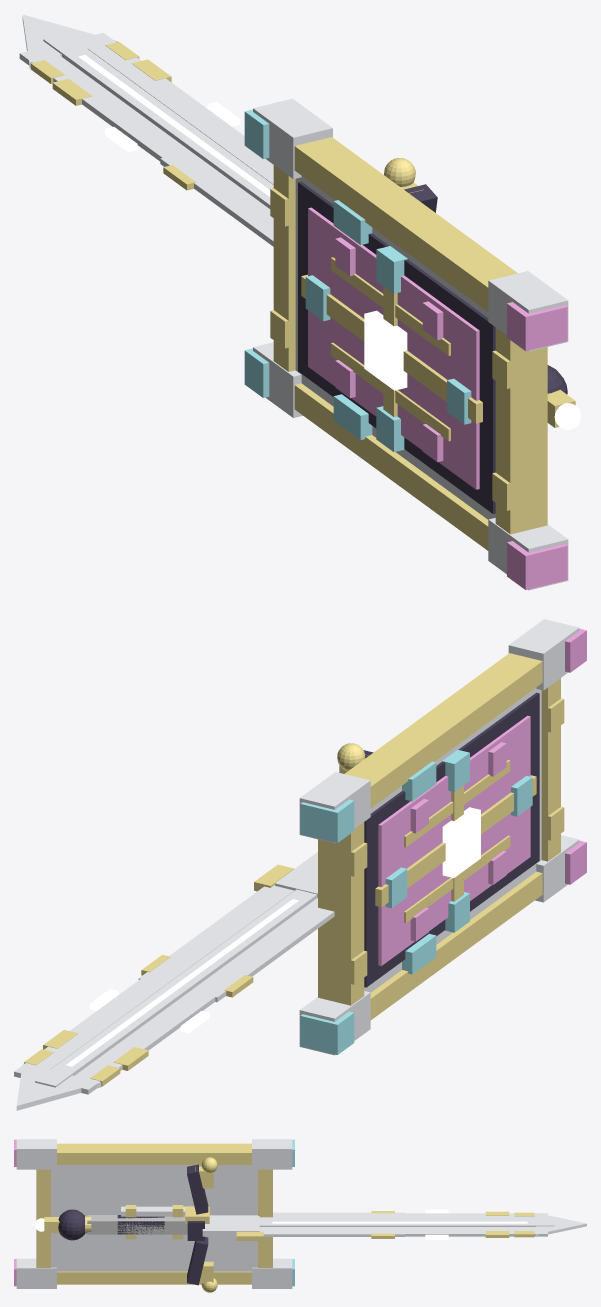
Rendered from art_astral_executioner.fbx.
3 views of the same model, one above another, from view 1: azimuth 30°, elevation 25°; view 2: azimuth 150°, elevation 25°; view 3: azimuth 270°, elevation 25° (orthographic). The views are drawn at different scales.
Visible parts, largest first — view 1: NebulaMirrorFilm, FrameL, ObsidianMirror, FrameBottom, FrameR, BladeFuller, EdgeBack2, EdgeFwd2, FrameTop, EdgeBack1, SpireTL, MirrorBacking (+24 smaller); view 2: NebulaMirrorFilm, FrameL, ObsidianMirror, FrameTop, BladeFuller, FrameR, EdgeBack1, EdgeFwd1, EdgeBack2, EdgeFwd2, FrameBottom, SpireBL (+25 smaller); view 3: MirrorBacking, FrameL, FrameR, BladeFuller, Handle, EdgeFwd1, FrameBottom, SpireBL, SpireTL, FrameTop, EdgeFwd2, Ricasso (+20 smaller).
Boxes of the visible parts, x1=… form: NebulaMirrorFilm: x1=308, y1=207, x2=479, y2=489; FrameL: x1=294, y1=137, x2=517, y2=311; ObsidianMirror: x1=298, y1=181, x2=495, y2=513; FrameBottom: x1=495, y1=327, x2=547, y2=534; FrameR: x1=294, y1=383, x2=488, y2=550; BladeFuller: x1=43, y1=33, x2=273, y2=208; EdgeBack2: x1=19, y1=46, x2=195, y2=161; EdgeFwd2: x1=76, y1=33, x2=244, y2=147; FrameTop: x1=273, y1=165, x2=295, y2=371; EdgeBack1: x1=160, y1=151, x2=273, y2=246; SpireTL: x1=253, y1=98, x2=332, y2=179; MirrorBacking: x1=295, y1=176, x2=495, y2=519; NebulaMirrorFilm: x1=378, y1=715, x2=530, y2=965; FrameL: x1=345, y1=653, x2=542, y2=808; ObsidianMirror: x1=364, y1=692, x2=539, y2=987; FrameTop: x1=318, y1=822, x2=364, y2=1005; BladeFuller: x1=35, y1=889, x2=317, y2=1087; FrameR: x1=370, y1=871, x2=542, y2=1020; EdgeBack1: x1=195, y1=898, x2=334, y2=1002; EdgeFwd1: x1=138, y1=885, x2=294, y2=984; EdgeBack2: x1=64, y1=988, x2=218, y2=1094; EdgeFwd2: x1=14, y1=975, x2=165, y2=1077; FrameBottom: x1=541, y1=678, x2=560, y2=861; SpireBL: x1=508, y1=619, x2=579, y2=690; MirrorBacking: x1=51, y1=1165, x2=257, y2=1271; FrameL: x1=57, y1=1143, x2=251, y2=1164; FrameR: x1=57, y1=1271, x2=251, y2=1284; BladeFuller: x1=259, y1=1220, x2=554, y2=1226; Handle: x1=87, y1=1215, x2=187, y2=1234; EdgeFwd1: x1=259, y1=1227, x2=404, y2=1236; FrameBottom: x1=36, y1=1169, x2=50, y2=1267; SpireBL: x1=16, y1=1139, x2=56, y2=1169; SpireTL: x1=252, y1=1139, x2=292, y2=1169; FrameTop: x1=258, y1=1169, x2=272, y2=1267; EdgeFwd2: x1=405, y1=1227, x2=547, y2=1236; Ricasso: x1=202, y1=1215, x2=259, y2=1236.
Bounding box in the file's own units: 1.13 × 2.3 × 8.52.
